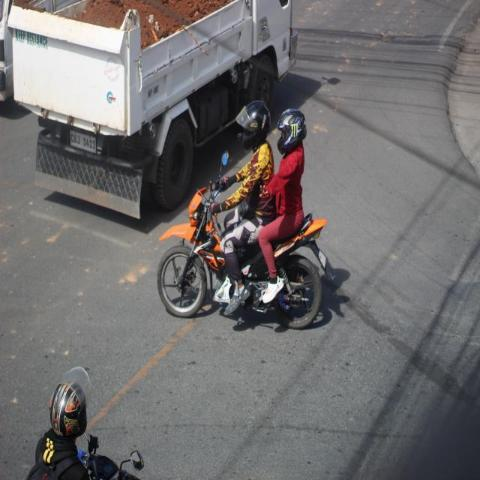motorcycle: (156, 98, 335, 332)
truck: (15, 0, 298, 218)
